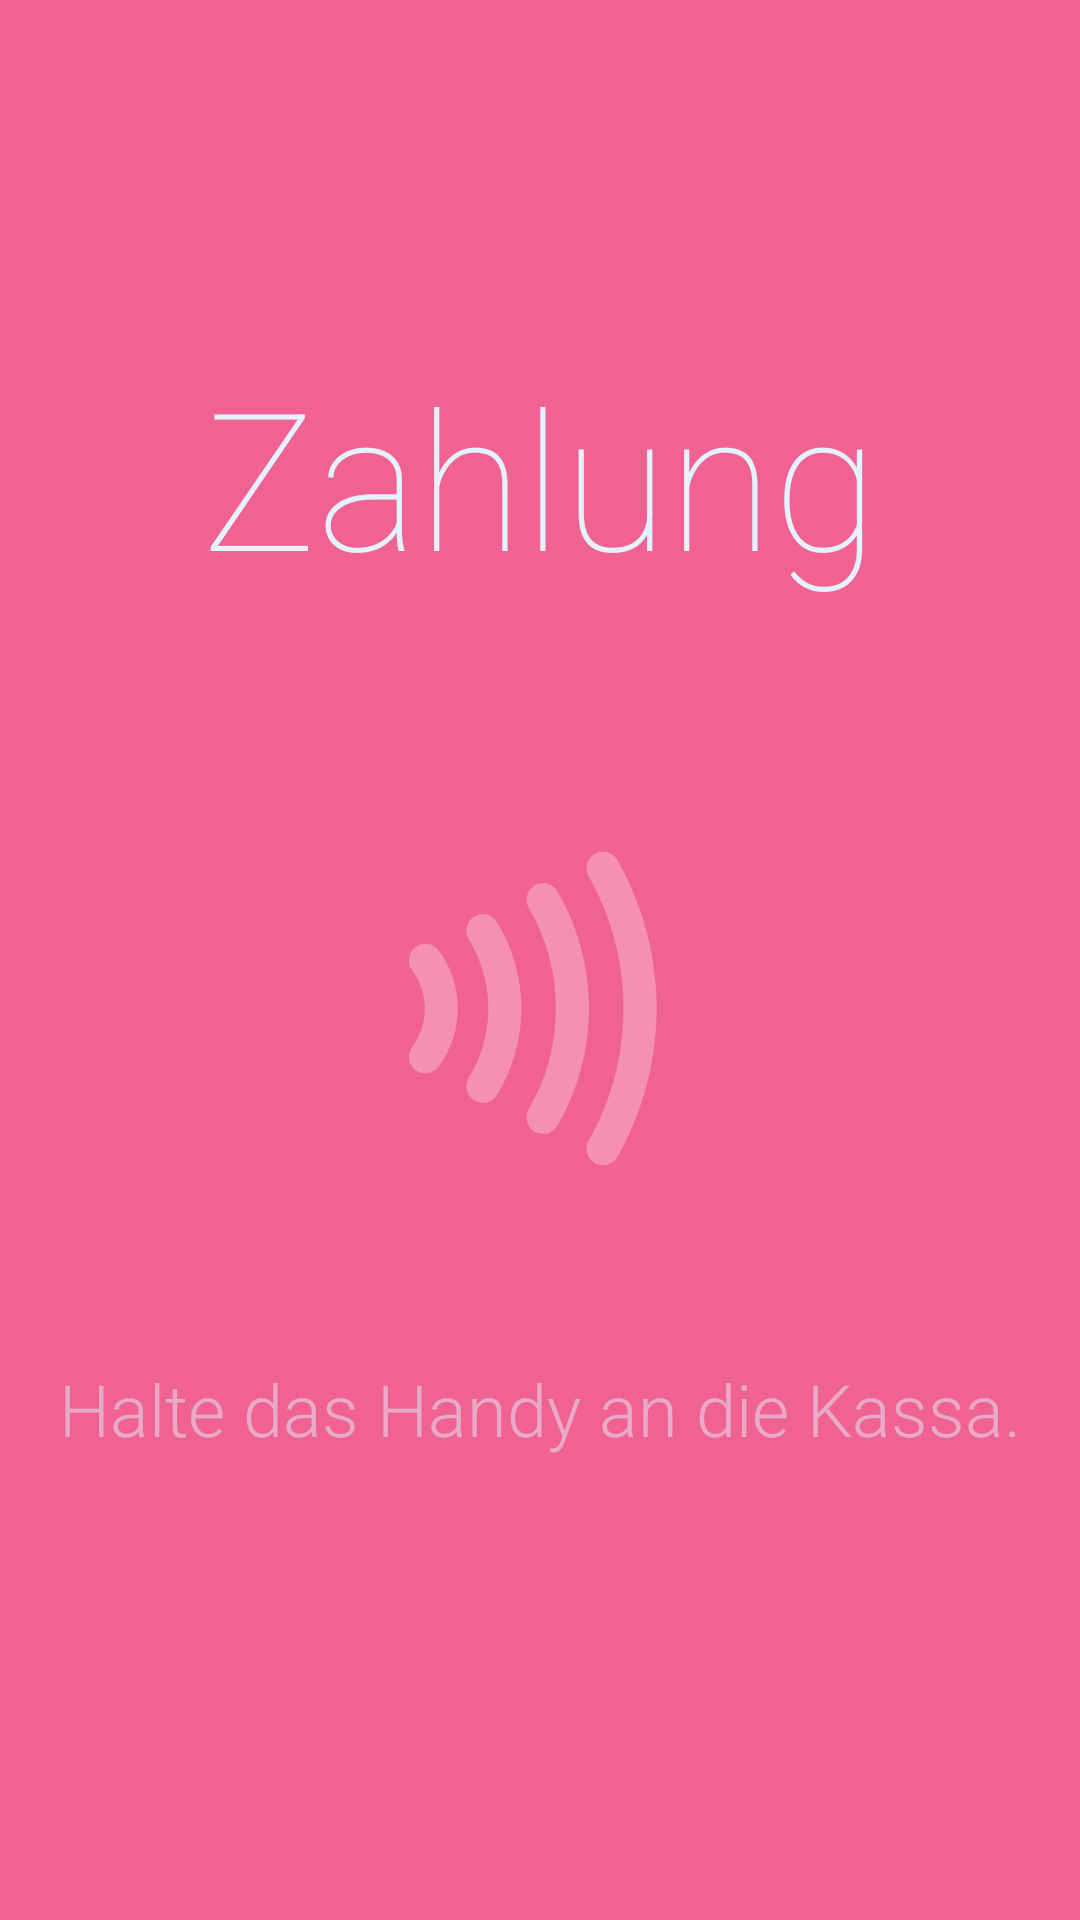

Icon click points for this 1080px×1920px phone screenshot, format (x,y):
contactless payment: (533,1008)
